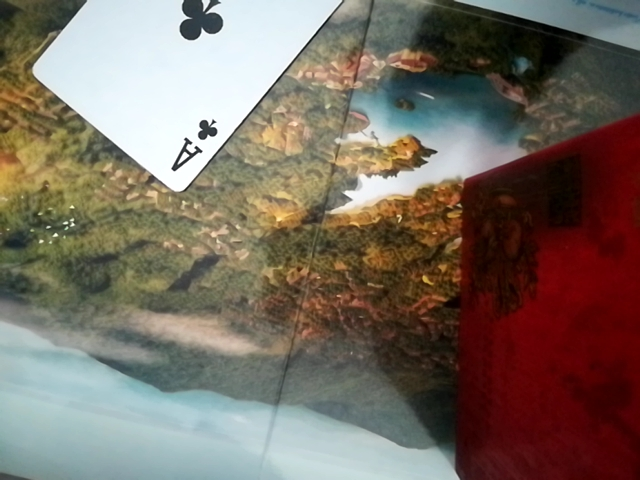mh a: (18, 0, 377, 198)
